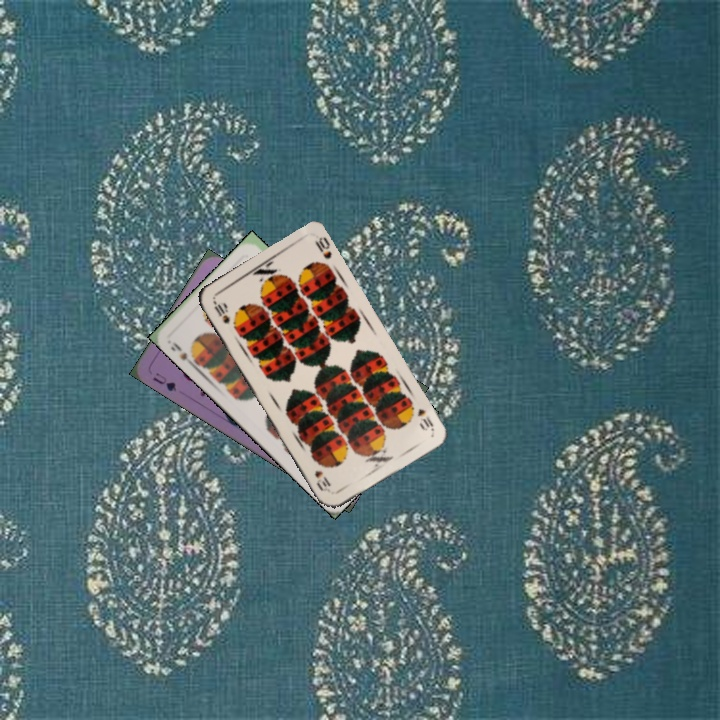GU: (148, 368, 180, 394)
S10: (209, 296, 233, 327), (413, 404, 436, 434)
S9: (165, 337, 200, 370)
